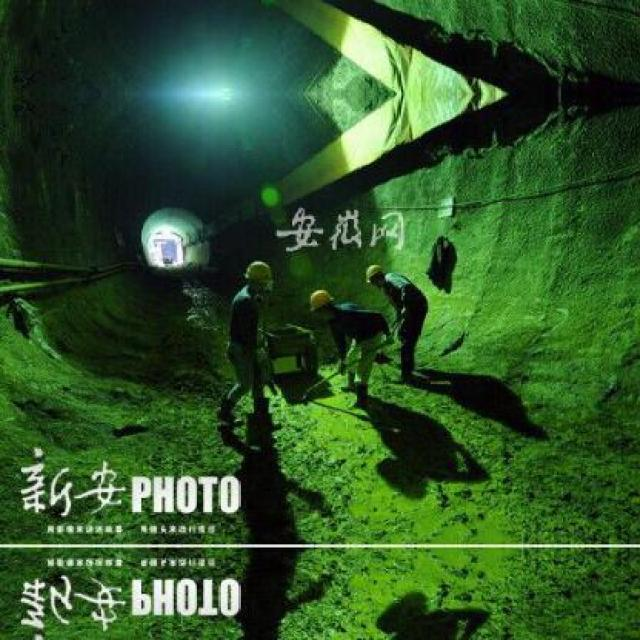helmet: (244, 258, 273, 296), (302, 286, 335, 312), (362, 262, 386, 285)
